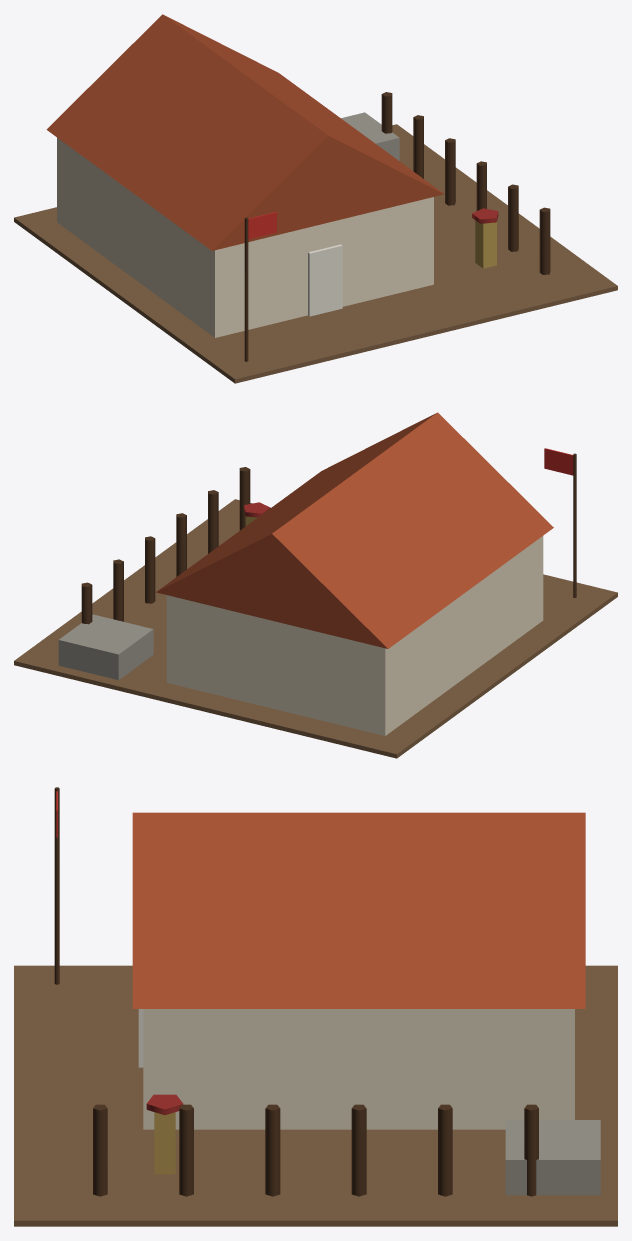
Rendered from bld_special_barracks_a02_lod2.glb.
3 renders of one model, top to bottom at view 1: azimuth 30°, elevation 25°; view 2: azimuth 150°, elevation 25°; view 3: azimuth 270°, elevation 25°, orthographic. The views are drawn at different scales.
Parts seen in each view (by area): view 1: body; view 2: body; view 3: body.
Boxes of the visible parts, left/top/right/bottom form: body: left=14, top=14, right=617, bottom=383; body: left=14, top=412, right=617, bottom=758; body: left=14, top=787, right=617, bottom=1226.
Size of the model in its own units: 14 by 6.39 by 14.
